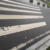zebra: (1, 1, 46, 36)
